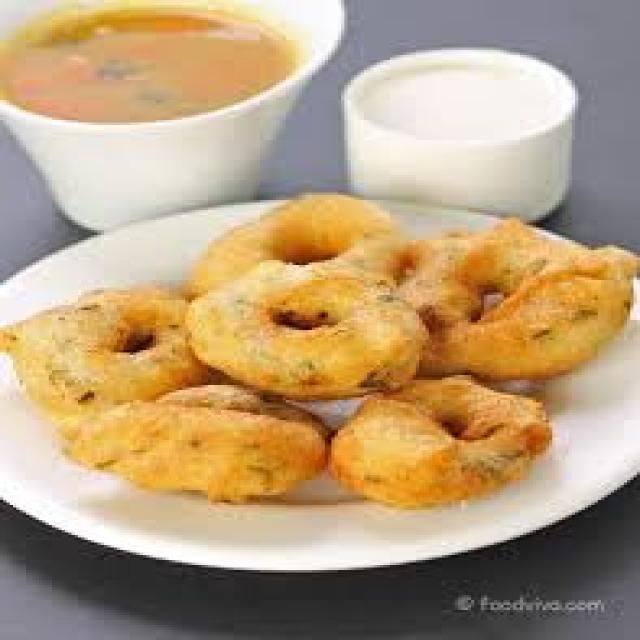MEDU VADA: (398, 220, 637, 396), (170, 266, 419, 395), (48, 380, 324, 493), (328, 373, 559, 505), (0, 291, 206, 420), (193, 188, 393, 299)
